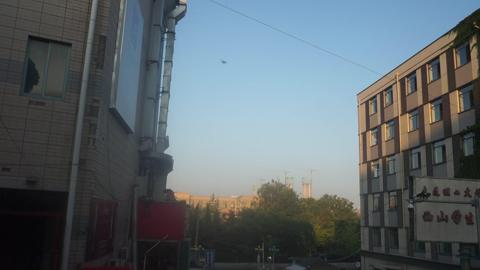UAV: (220, 59, 228, 65)
